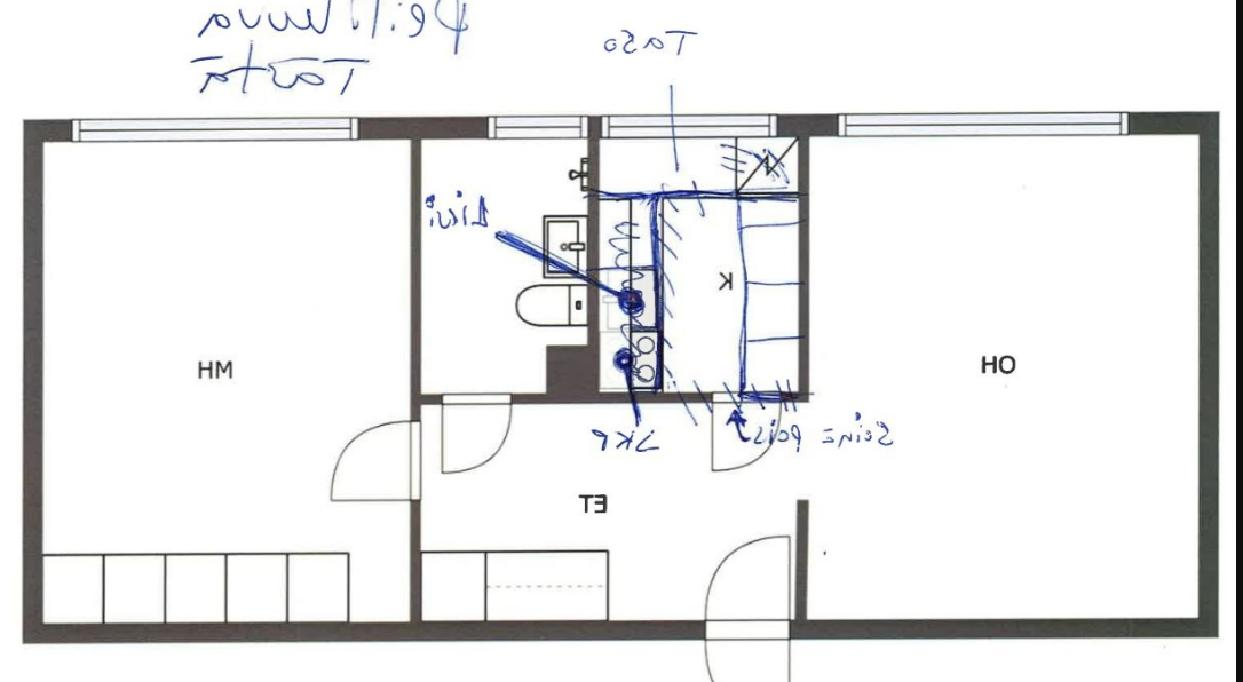door: (702, 533, 803, 682), (330, 418, 423, 509), (439, 393, 514, 478), (709, 389, 778, 472)
window: (837, 111, 1126, 134), (75, 118, 357, 137), (600, 114, 778, 139), (489, 115, 588, 138)
zone: (420, 140, 1198, 619), (42, 140, 410, 622), (598, 136, 798, 389), (421, 139, 585, 395)
